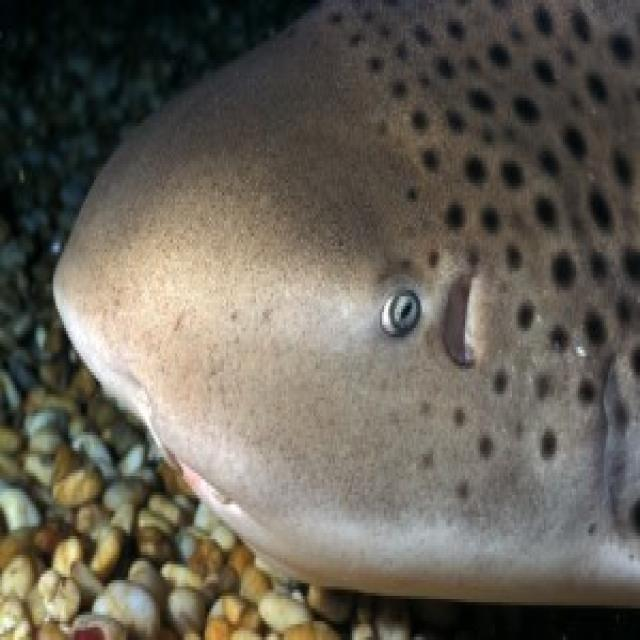Shark: (50, 0, 639, 616)
